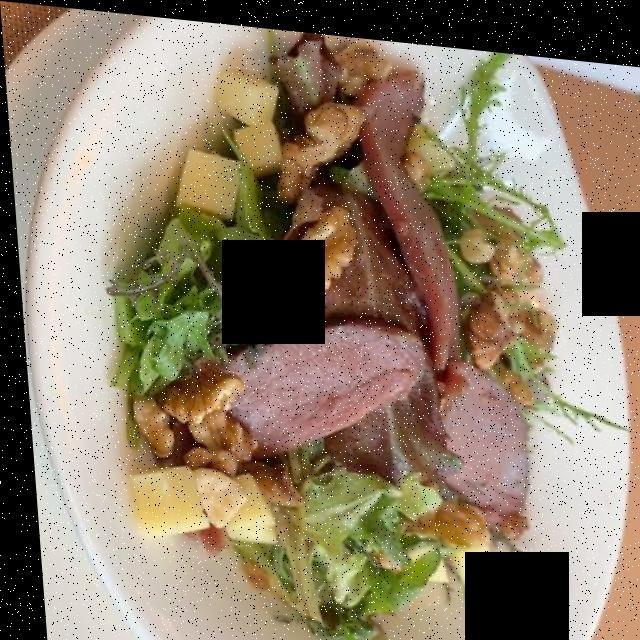cheese: (165, 70, 277, 215)
ham: (220, 303, 433, 447)
salad: (116, 33, 538, 640)
walnut: (114, 341, 304, 510)
